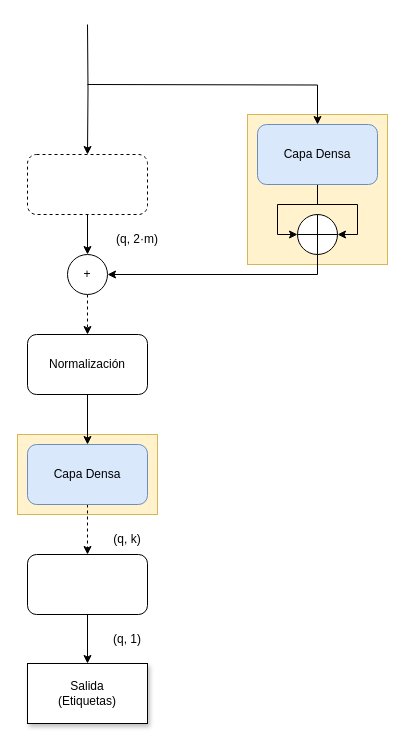
Some shapes in this 405 by 748 pixel diagram are drawn without their labels. Each missing label, with the centre of its shape:
CRF: the point at 87,584
LSTM Bidireccional: the point at 87,184
